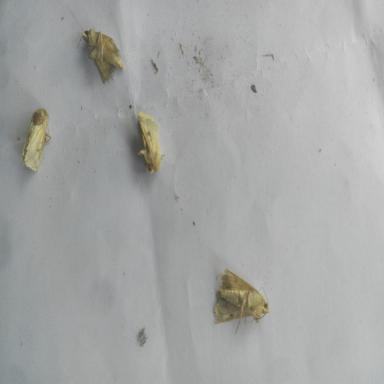abw: (64, 3, 127, 89), (210, 264, 273, 339), (16, 100, 55, 180), (132, 104, 169, 182)
